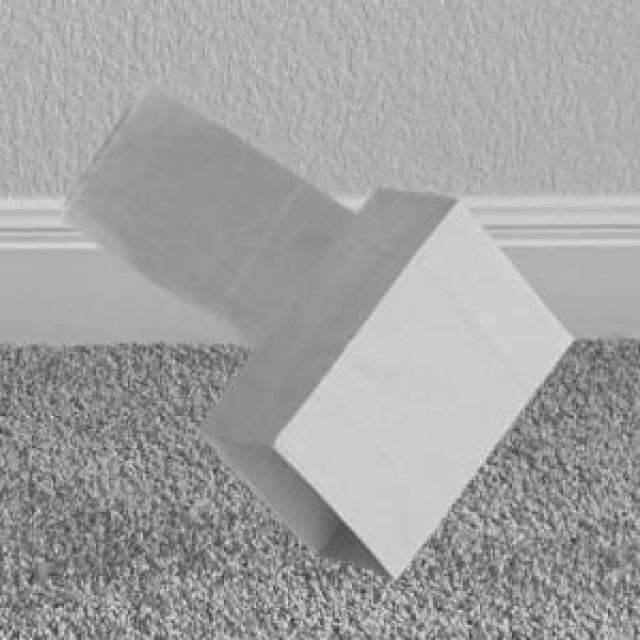paper: (194, 186, 570, 576), (58, 79, 352, 344)
